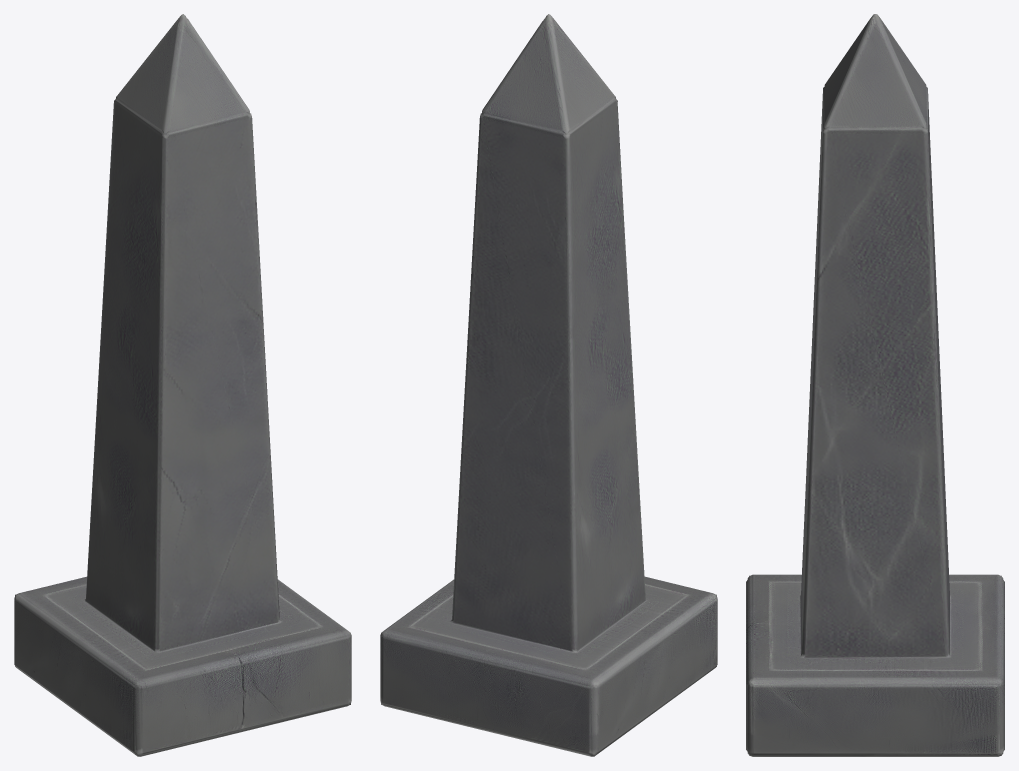
The model's file is monument_obelisk_small.glb.
The picture shows the model from 3 angles, left to right: view 1: azimuth 30°, elevation 25°; view 2: azimuth 150°, elevation 25°; view 3: azimuth 270°, elevation 25°; orthographic projection. The views are drawn at different scales.
Size of the model in its own units: 0.6776 by 2 by 0.6776.
Materials: 1 (1 with a texture image).
